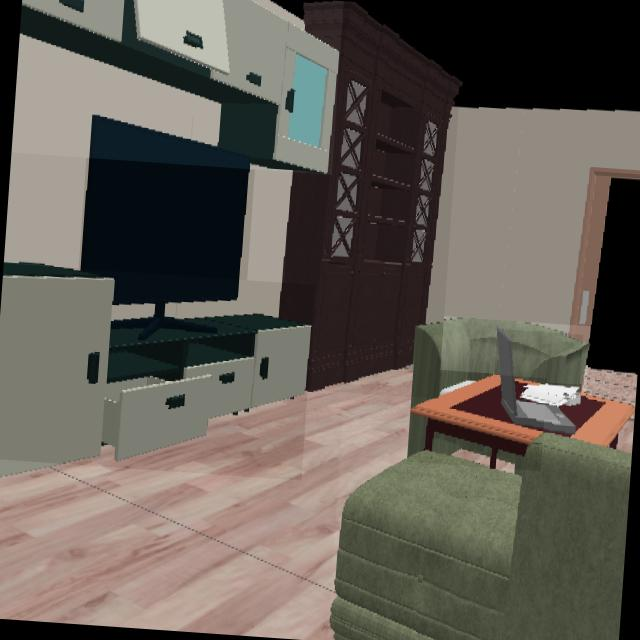book: (517, 381, 580, 419)
bookshelf: (288, 0, 460, 390)
cabinet: (0, 263, 311, 463), (20, 0, 339, 174)
laptop: (497, 330, 576, 436)
monitor: (78, 116, 254, 322)
sofa: (328, 432, 631, 640), (411, 318, 589, 408)
table: (407, 375, 543, 468), (559, 397, 635, 446)
